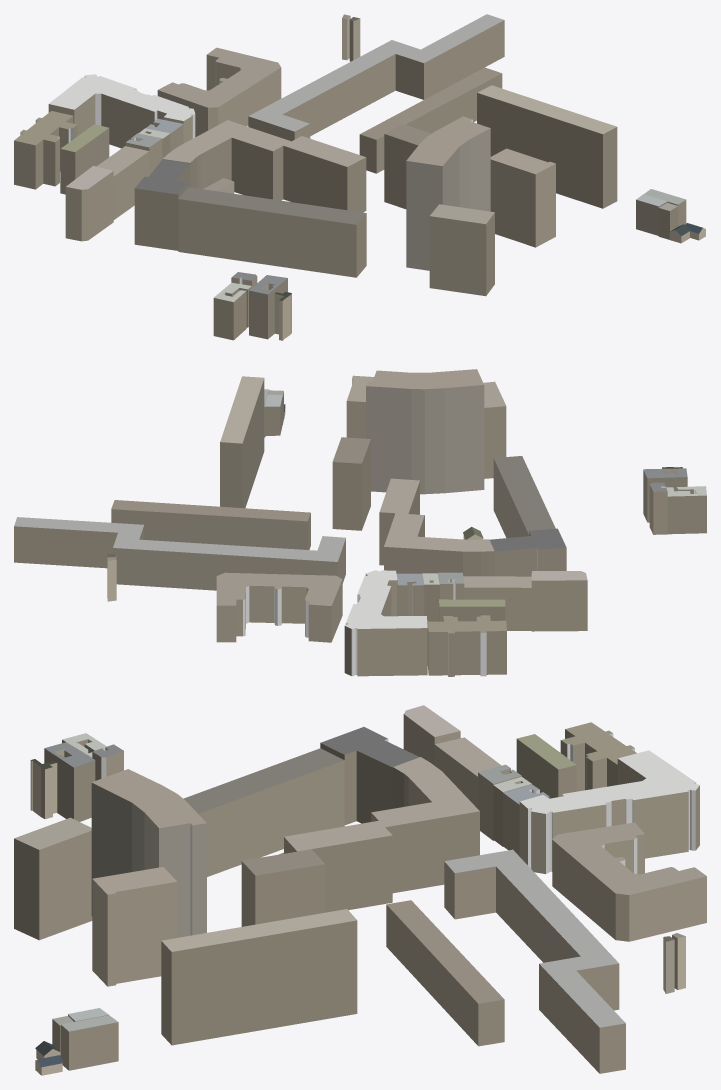
The picture shows the model from 3 angles, top to bottom: view 1: azimuth 30°, elevation 25°; view 2: azimuth 150°, elevation 25°; view 3: azimuth 270°, elevation 25°; orthographic projection. The views are drawn at different scales.
Visible parts, largest first — view 1: tuile; view 2: tuile; view 3: tuile.
Part boxes in pixels (x1=…): tuile: x1=14, y1=14, x2=705, y2=340; tuile: x1=14, y1=369, x2=706, y2=676; tuile: x1=14, y1=705, x2=706, y2=1075.
Size of the model in its own units: 275 by 59.5 by 258.
